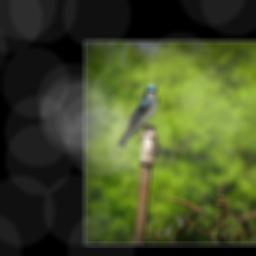Swallow: (117, 83, 160, 150)
